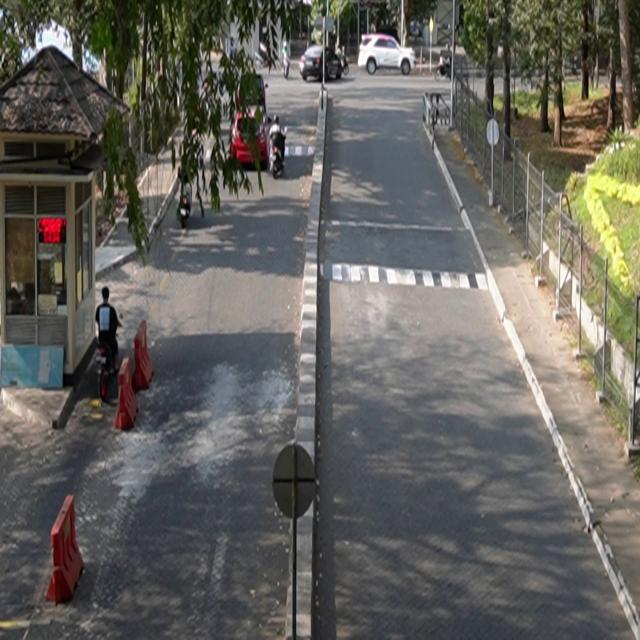car: (359, 34, 418, 76), (231, 107, 270, 170), (300, 46, 344, 82)
